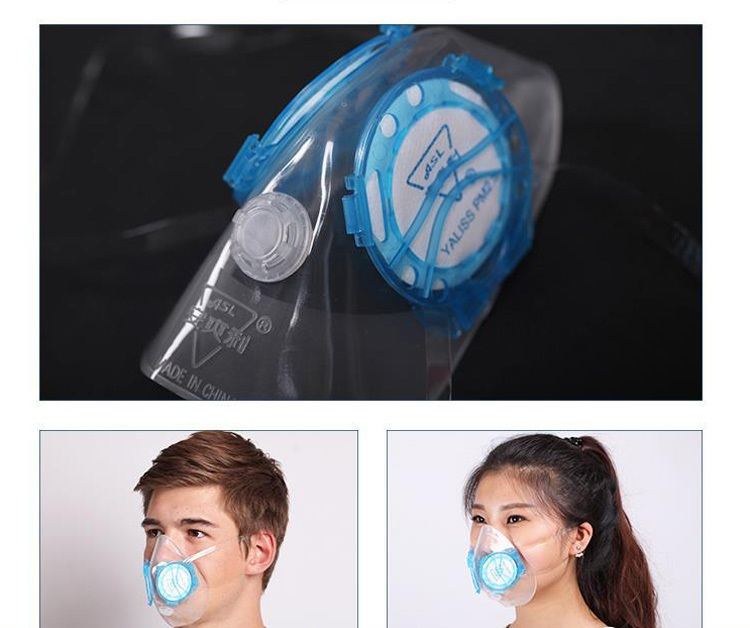face_mask: (141, 486, 234, 625), (464, 480, 553, 606)
